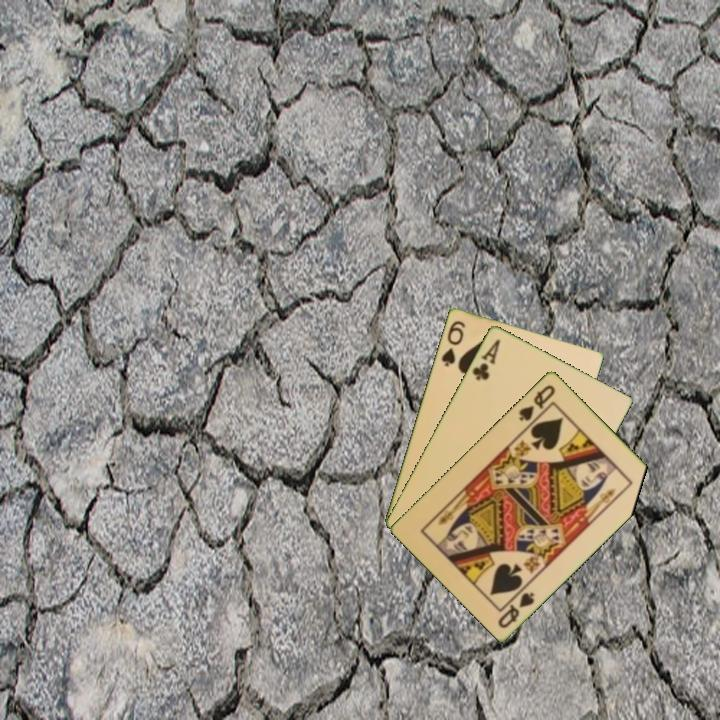6s: (438, 317, 468, 369)
Ac: (468, 335, 503, 383)
Qs: (515, 381, 558, 424), (494, 588, 537, 631)
